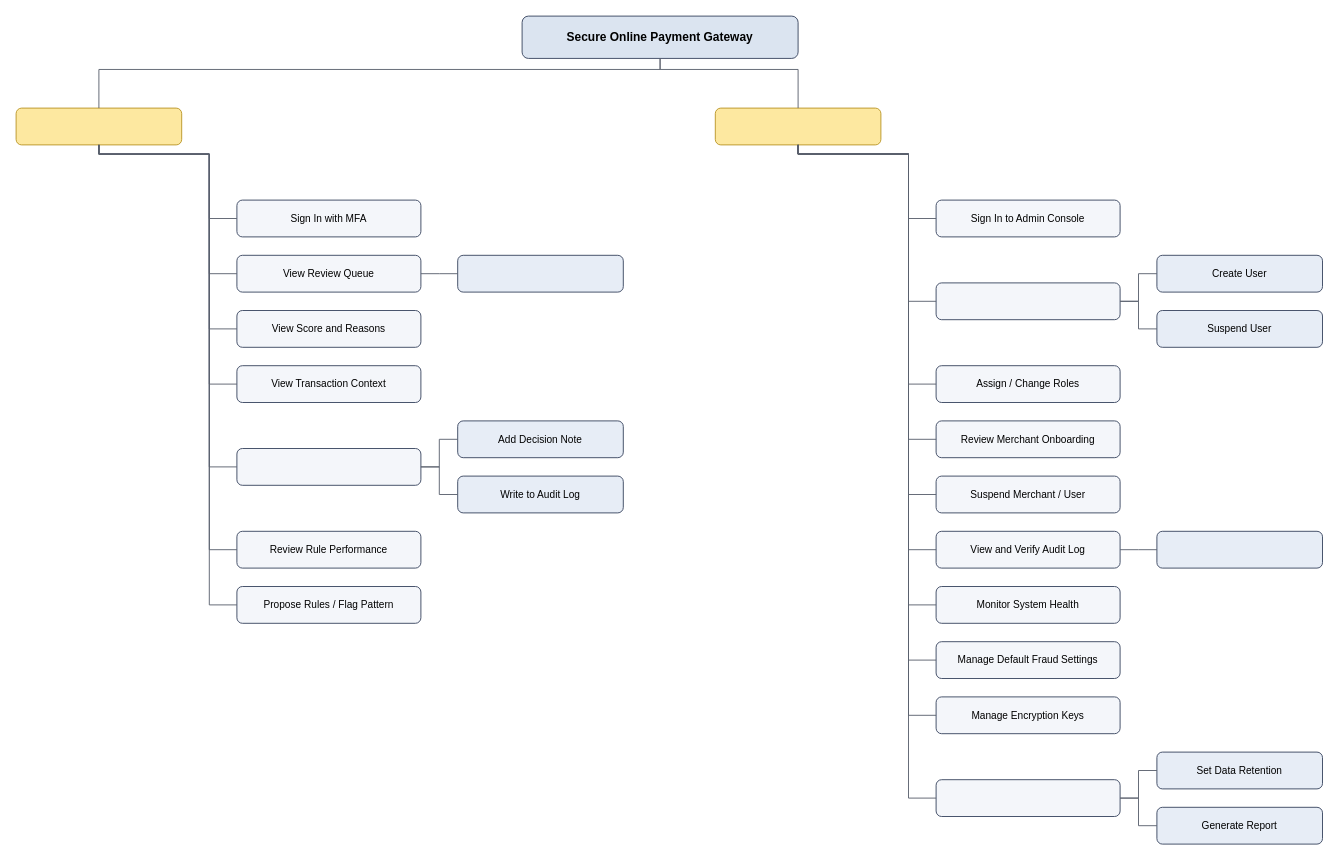
Some shapes in this 1339 by 860 pixel diagram are drawn without their labels. The box of each missing label's shape, as (x1, y1, x2, y2) in pixels:
Administrator: (714, 107, 881, 145)
Approve or Reject Payment: (236, 448, 421, 485)
Configure Retention / Reports: (935, 779, 1120, 816)
Fraud Analyst: (15, 107, 182, 145)
Manage User Accounts: (935, 282, 1120, 320)
Prioritise by Risk / Value: (457, 254, 623, 292)
Verify Hash Chain: (1156, 530, 1322, 568)
